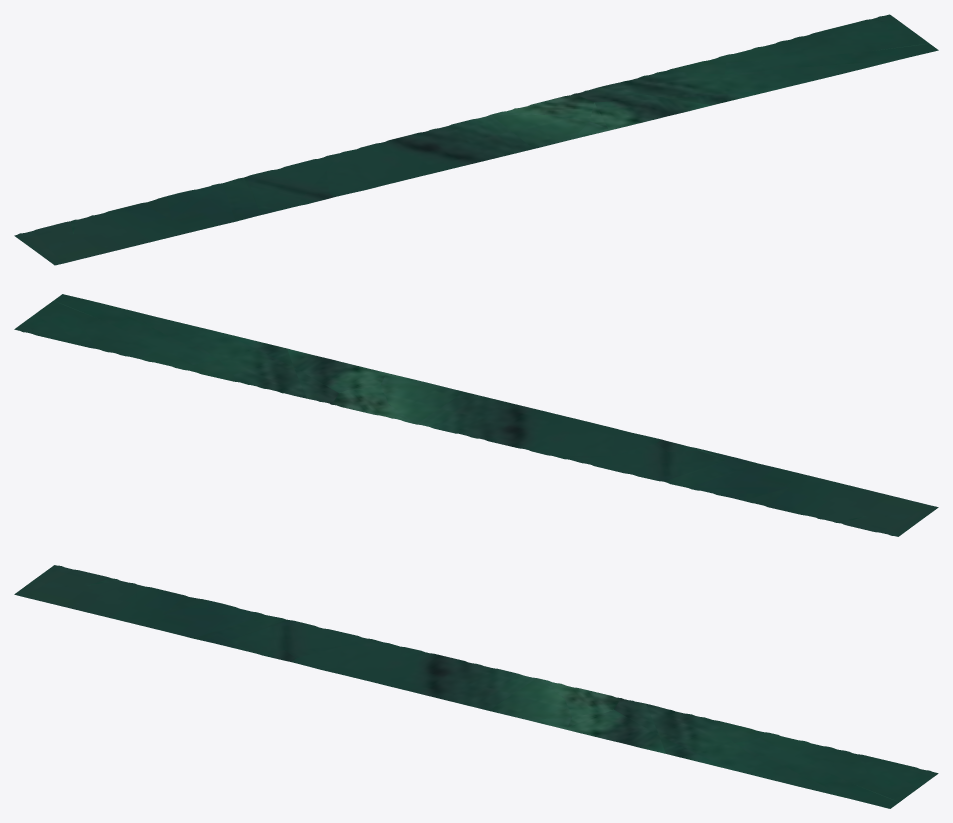
3 views of the same model, one above another, from view 1: azimuth 30°, elevation 25°; view 2: azimuth 150°, elevation 25°; view 3: azimuth 330°, elevation 25° (orthographic).
Bounding box in the file's own units: 836 × 0.8823 × 81.12.
Materials: 1 (1 with a texture image).
